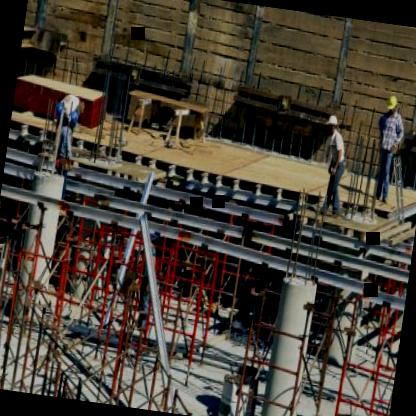helmet: (384, 92, 402, 118), (324, 114, 340, 136)
